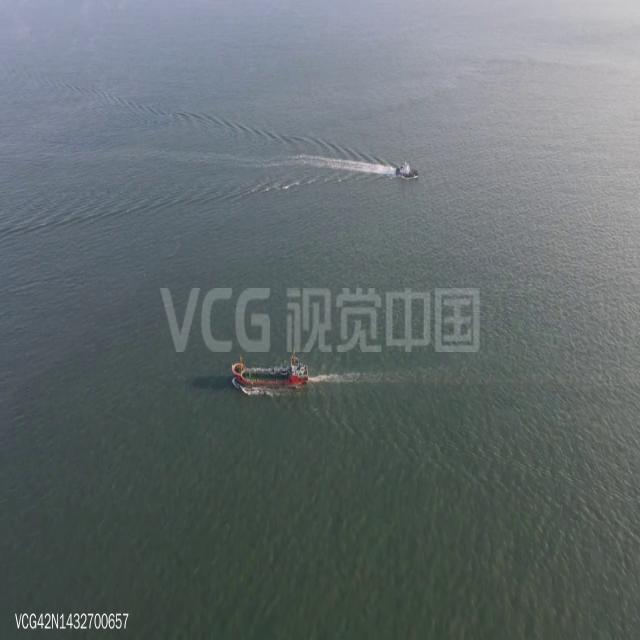cargoship: (230, 349, 310, 397), (392, 156, 422, 180)
